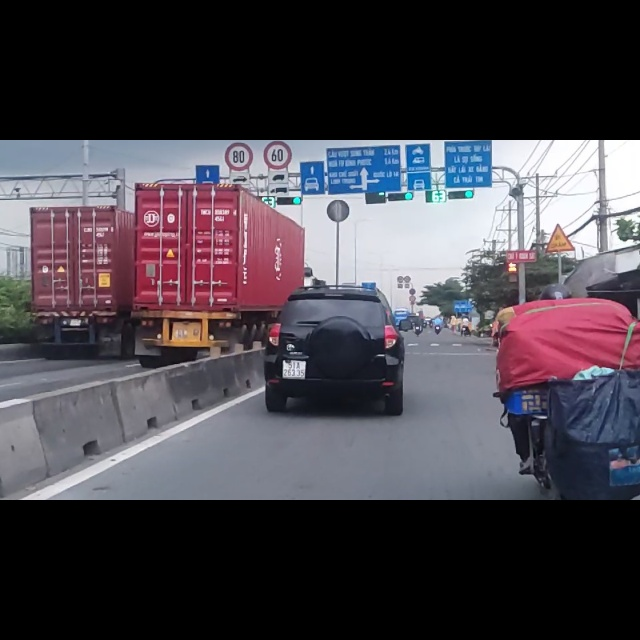bien_nguy_hiem: (544, 148, 575, 201), (263, 2, 292, 53), (224, 5, 253, 55)
